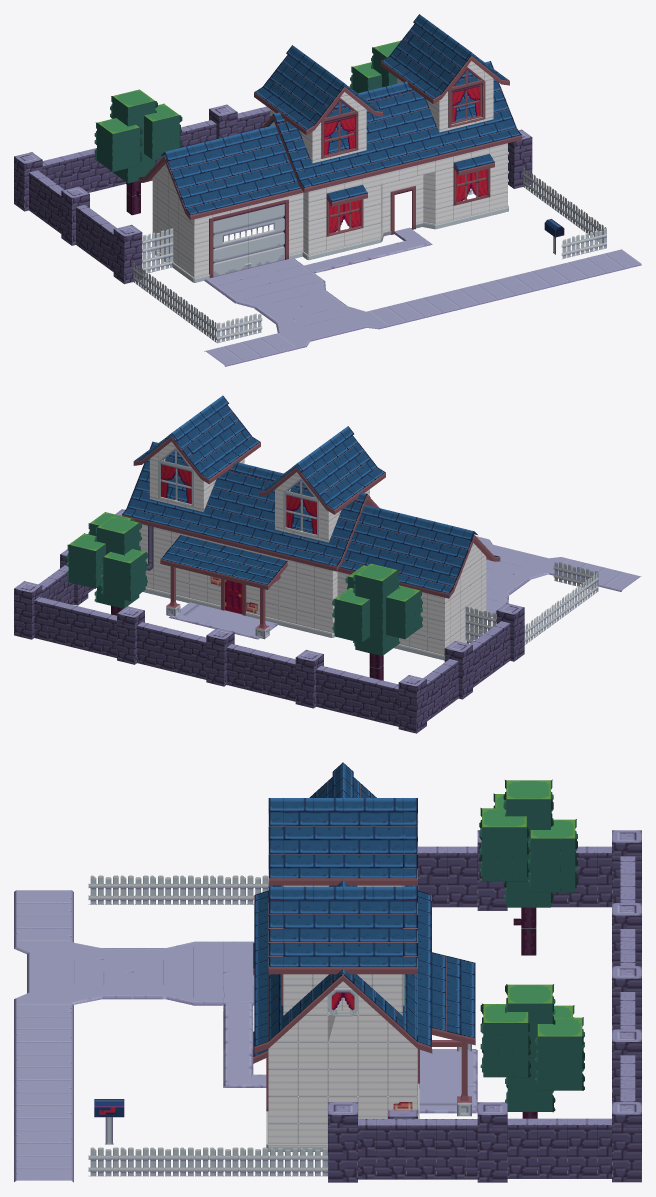
The model's file is house2.fbx.
3 views of the same model, one above another, from view 1: azimuth 30°, elevation 25°; view 2: azimuth 150°, elevation 25°; view 3: azimuth 270°, elevation 25° (orthographic). The views are drawn at different scales.
Visible parts, largest first — view 1: Cube.007; view 2: Cube.007; view 3: Cube.007.
Boxes of the visible parts, <box> form: Cube.007: <box>14,14,641,366</box>; Cube.007: <box>14,395,641,733</box>; Cube.007: <box>14,762,641,1182</box>.
Size of the model in its own units: 1152 by 441 by 1050.
